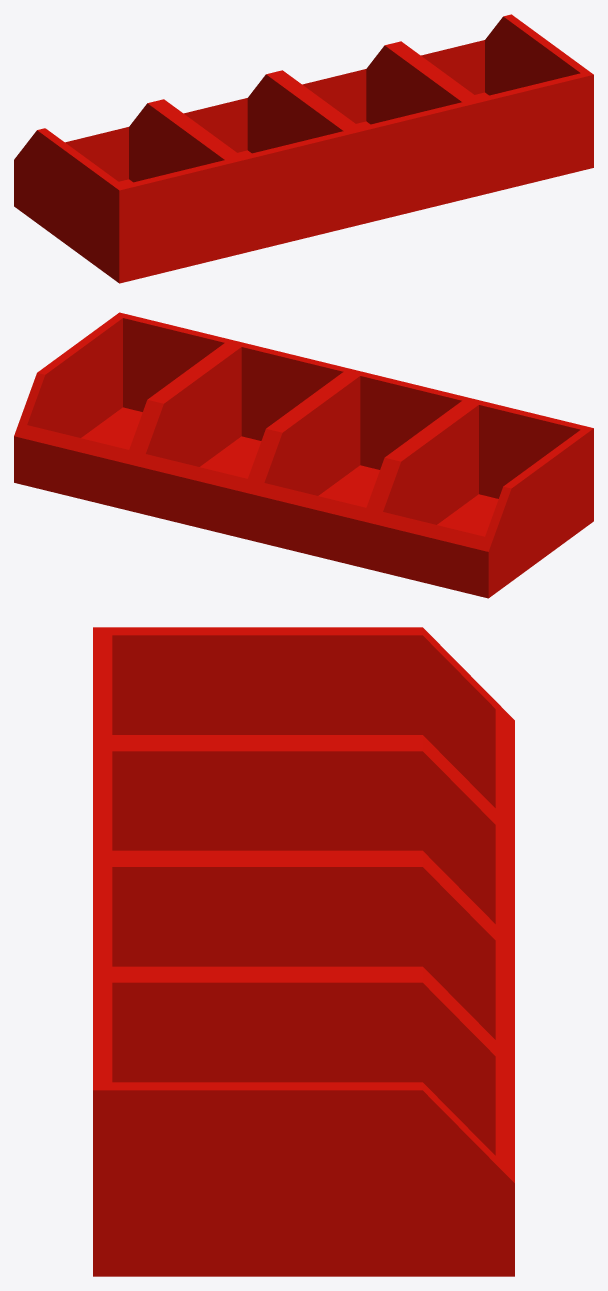
The model's file is ergobox.dae.
3 views of the same model, one above another, from view 1: azimuth 30°, elevation 25°; view 2: azimuth 150°, elevation 25°; view 3: azimuth 270°, elevation 25° (orthographic). The views are drawn at different scales.
Parts seen in each view (by area): view 1: node.001; view 2: node.001; view 3: node.001.
Boxes of the visible parts, left/top/right/bottom form: node.001: left=14, top=14, right=593, bottom=283; node.001: left=14, top=312, right=593, bottom=598; node.001: left=93, top=627, right=514, bottom=1276.
Size of the model in its own units: 0.4 by 0.154 by 0.075.
